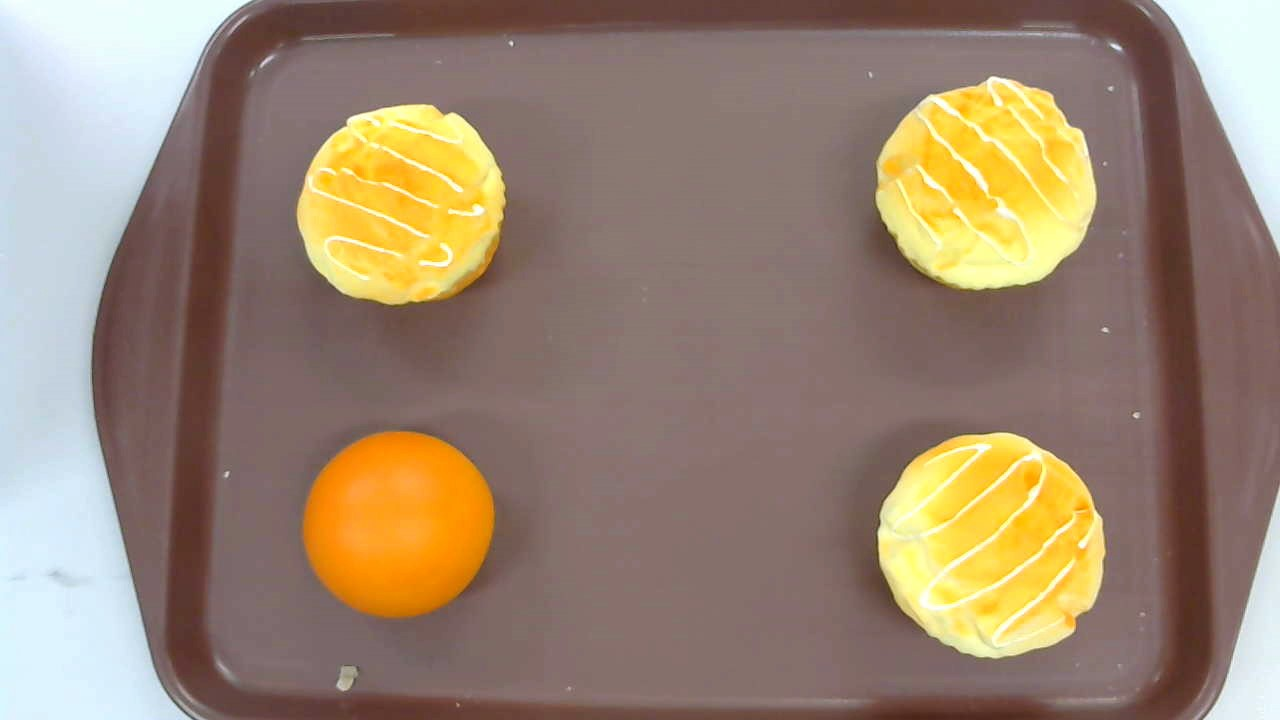bun: (303, 430, 494, 618)
cupcake: (876, 432, 1106, 659), (876, 75, 1097, 291), (296, 103, 506, 307)
